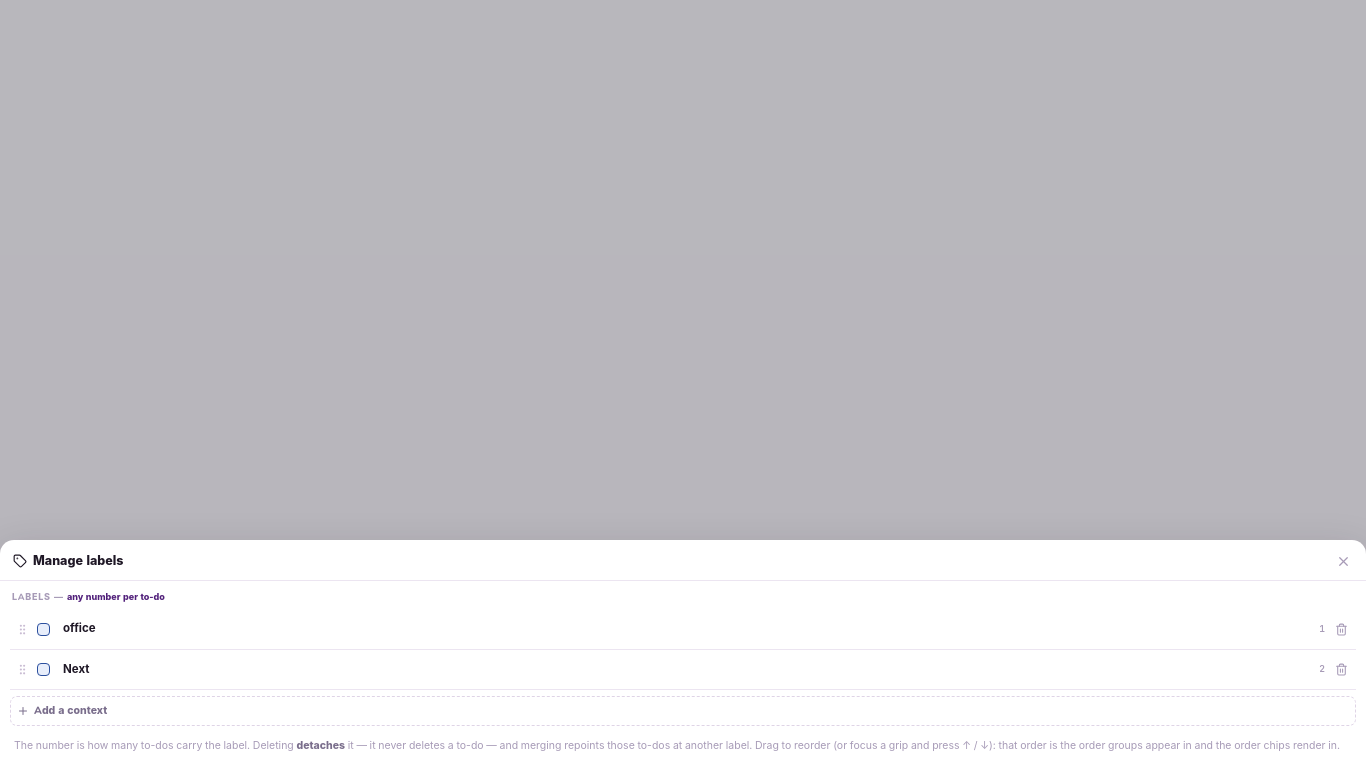
Scenario: delete and merge › deleting the last of anything warns about NOTHING extra now
Click the button named "Delete or merge @Next" at coordinates (1342, 669), box [1331, 659, 1352, 680]
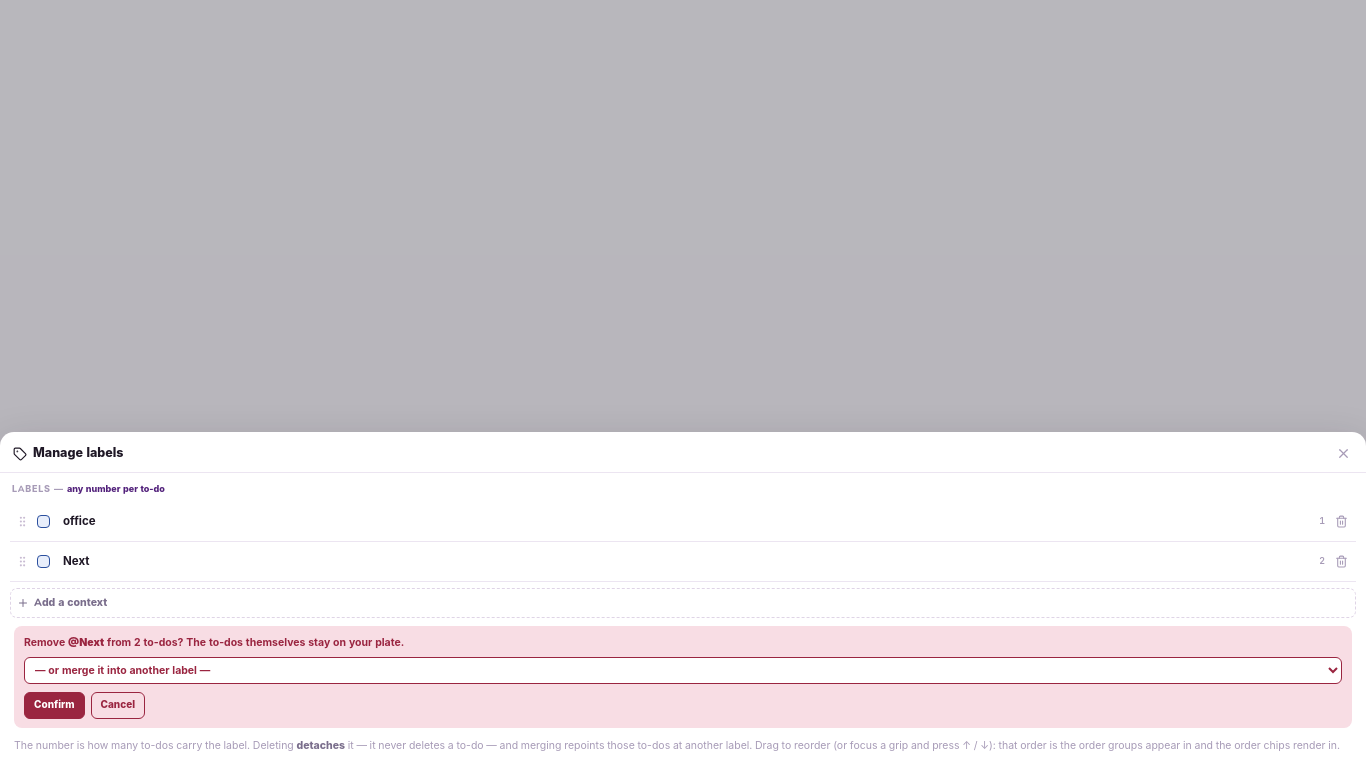
Check: the dialog shows "stay on your plate", box [178, 635, 404, 650]
